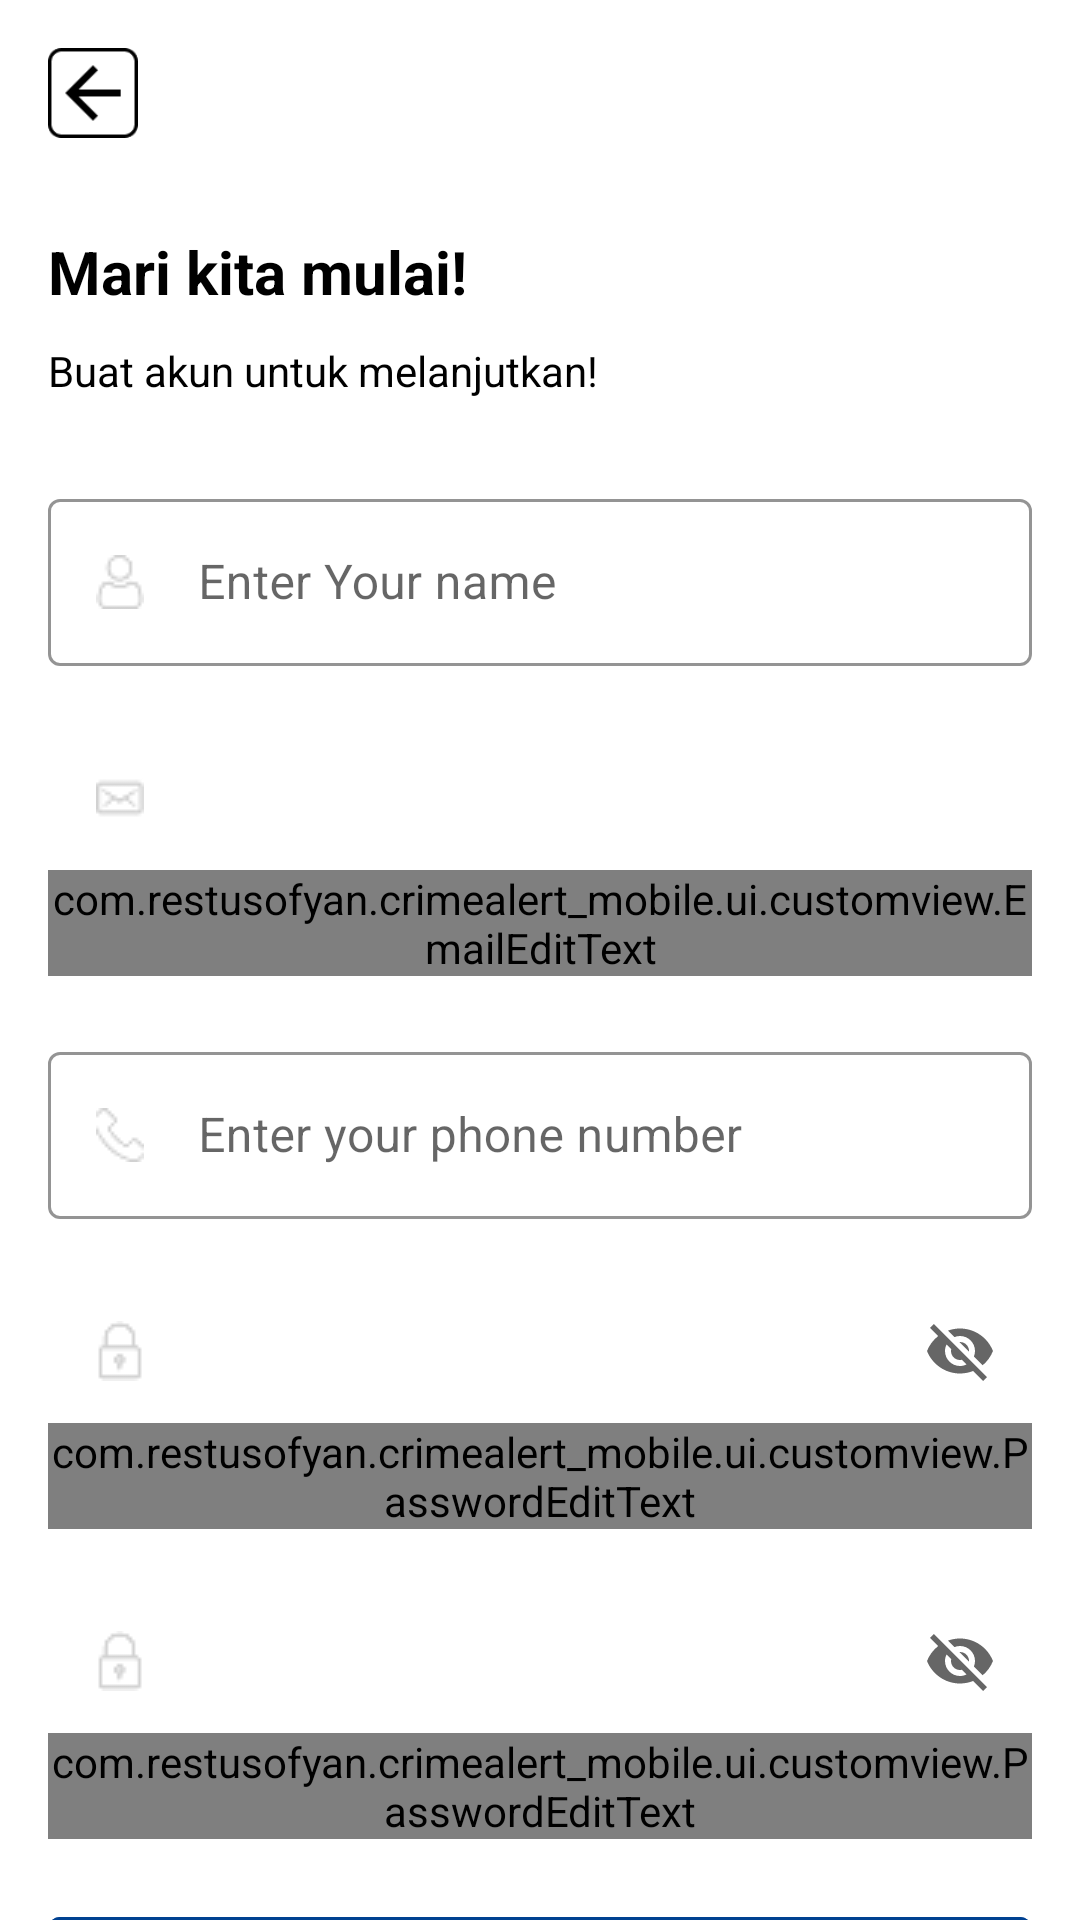

Named icons in this screenshot (1080px×1920px) and their bounding boxes, (x1, y1, x2, y2):
Back: (48, 48, 138, 138)
